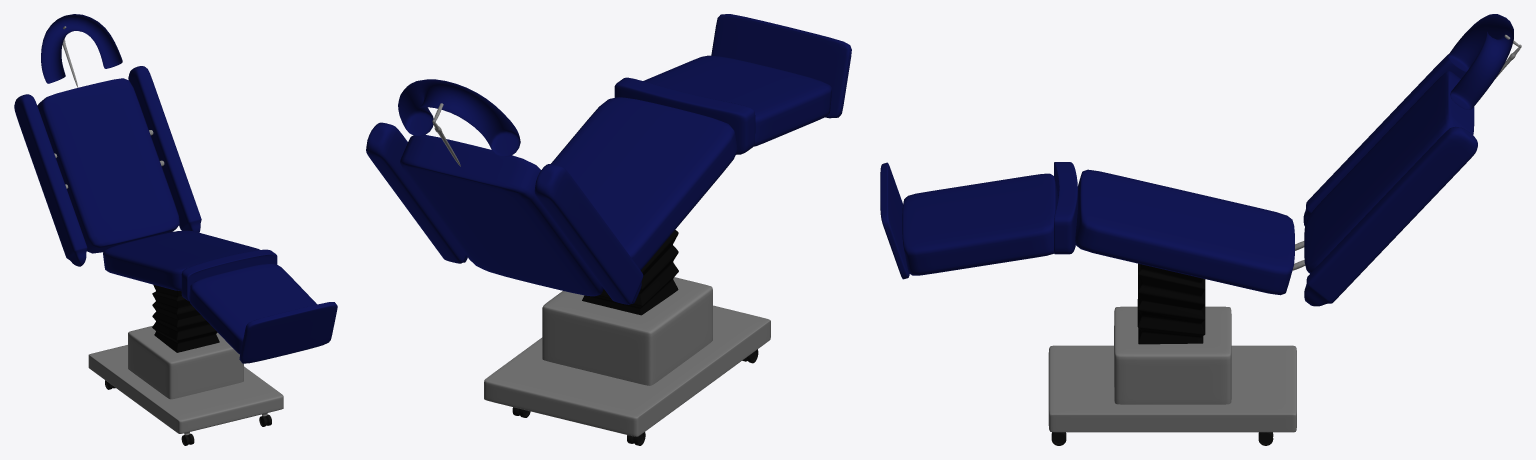
File: MetalBed.fbx
3 views of the same model, side by side, from view 1: azimuth 30°, elevation 25°; view 2: azimuth 150°, elevation 25°; view 3: azimuth 270°, elevation 25° (orthographic). The views are drawn at different scales.
Parts seen in each view (by area): view 1: Cube; view 2: Cube; view 3: Cube.
Part boxes in pixels (x1,y1,x2,y2): Cube: (14,14,337,445); Cube: (366,14,851,445); Cube: (880,14,1521,445).
Bounding box in the file's own units: 178 × 398 × 576.
